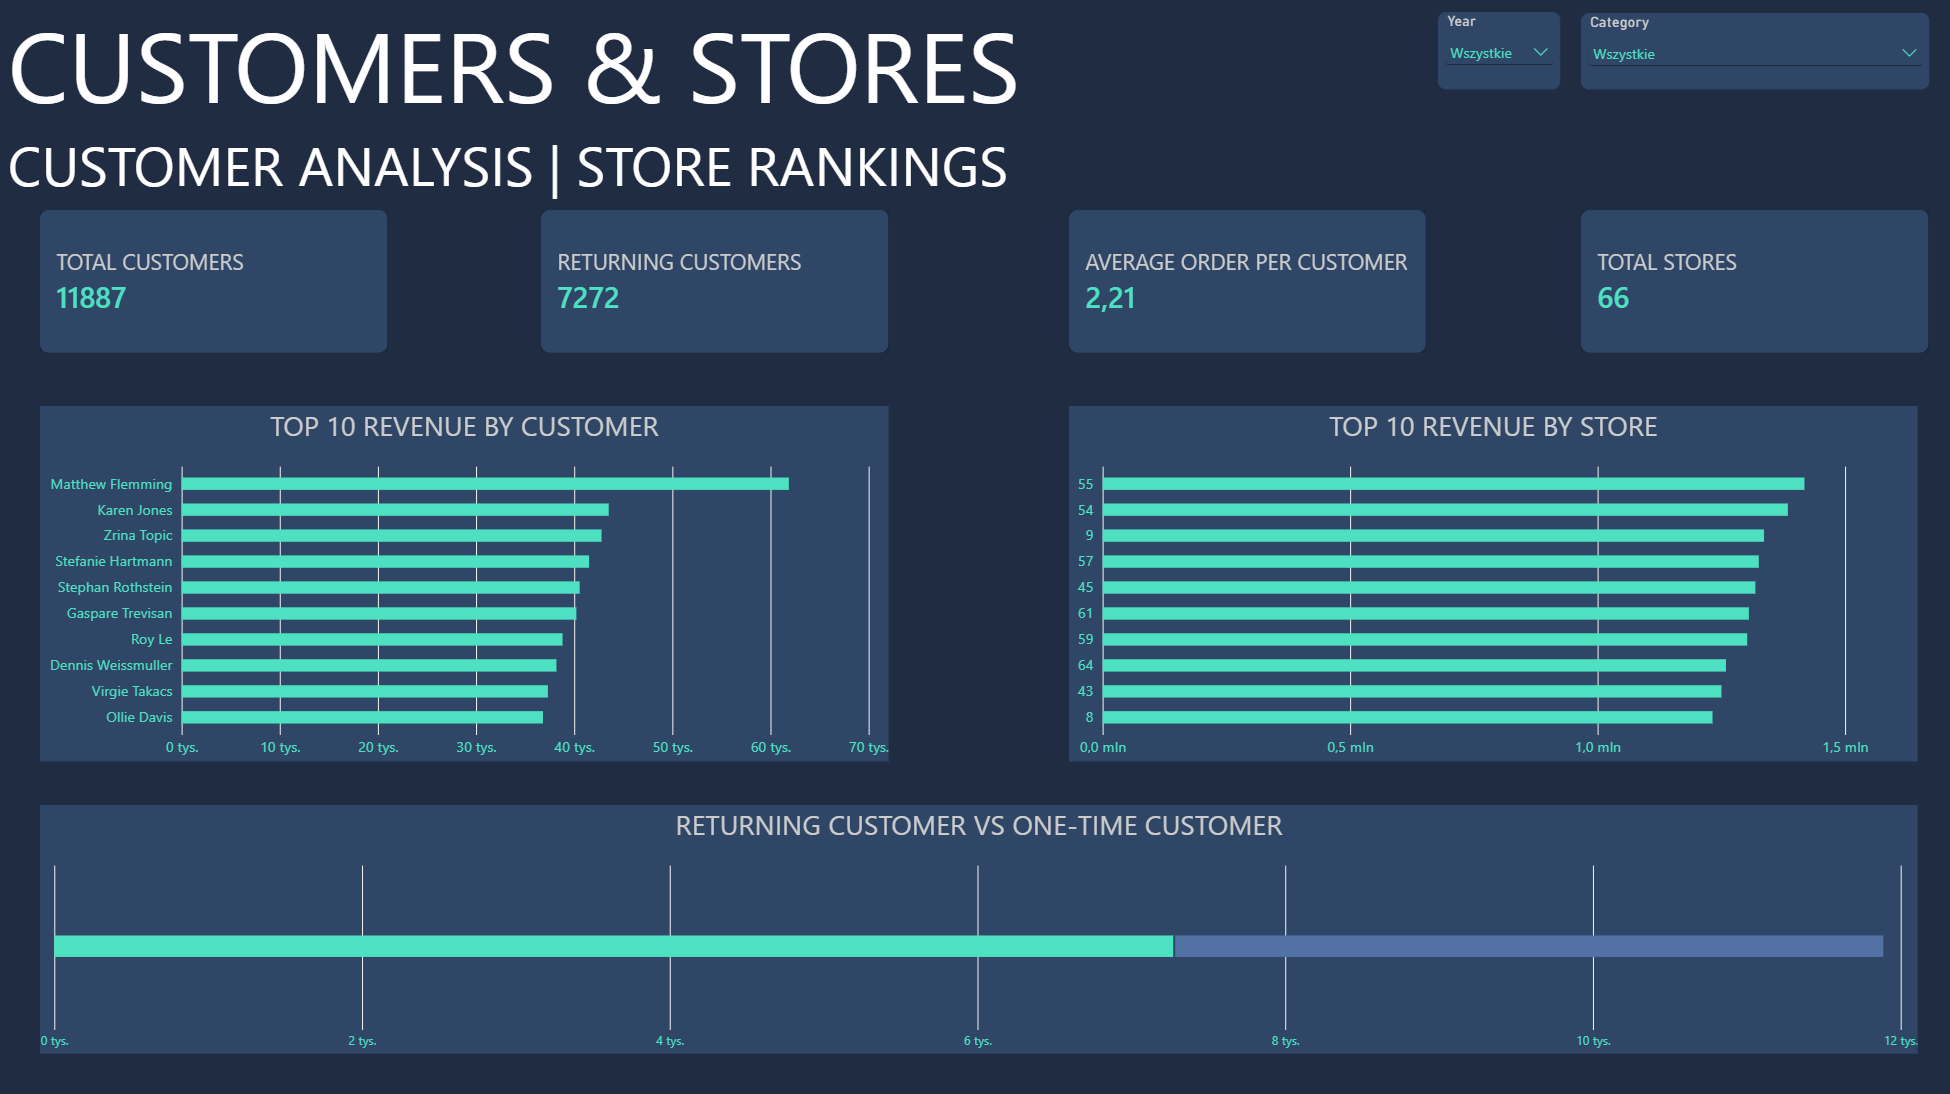

This screenshot's page, from the dashboard's own definition file:
{"tool":"powerbi","page":{"name":"Customers & Stores","canvas":[1920,1080],"ordinal":2},"visuals":[{"type":"textbox","box":[9.8,0,1650.1,279.8],"z":0},{"type":"cardVisual","fields":{"Data":["sales.Total_Customers"]},"box":[41.2,209.1,341.6,140.4],"z":1},{"type":"cardVisual","fields":{"Data":["customers.Returning_Customers"]},"box":[533,209.1,341.6,140.4],"z":2},{"type":"cardVisual","fields":{"Data":["sales.Average_Order_per_Customer"]},"box":[1051.3,209.1,350.4,140.4],"z":3},{"type":"cardVisual","fields":{"Data":["sales.Total_Stores"]},"box":[1553.9,209.1,341.6,140.4],"z":4},{"type":"barChart","title":"TOP 10 REVENUE BY CUSTOMER","fields":{"Category":["customers.Name"],"Y":["sales.Total_Revenue"]},"box":[41.2,401.5,833.4,349.4],"z":5},{"type":"barChart","title":"TOP 10 REVENUE BY STORE","fields":{"Category":["sales.StoreKey"],"Y":["sales.Total_Revenue"]},"box":[1051.3,401.5,833.4,349.4],"z":6},{"type":"barChart","title":"RETURNING CUSTOMER VS ONE-TIME CUSTOMER","fields":{"Y":["customers.Returning_Customers","customers.One_Time_Customers"]},"box":[41.2,793.1,1843.4,244.4],"z":7},{"type":"slicer","fields":{"Values":["sales.Order_Date.Odmiana.Hierarchia dat.Rok"]},"box":[1413.5,14.7,120,75.6],"z":8},{"type":"slicer","fields":{"Values":["products.Category"]},"box":[1553.9,15.7,341.6,74.6],"z":9}]}

Visuals, with their boxes in screenshot pixels (x1, y1, x2, y2), scaled from the page's 1920x1080 canvas onto the 1950x1094 screenshot:
textbox: [10, 0, 1686, 283]
cardVisual - sales.Total_Customers: [42, 212, 389, 354]
cardVisual - customers.Returning_Customers: [541, 212, 888, 354]
cardVisual - sales.Average_Order_per_Customer: [1068, 212, 1424, 354]
cardVisual - sales.Total_Stores: [1578, 212, 1925, 354]
"TOP 10 REVENUE BY CUSTOMER" barChart: [42, 407, 888, 761]
"TOP 10 REVENUE BY STORE" barChart: [1068, 407, 1914, 761]
"RETURNING CUSTOMER VS ONE-TIME CUSTOMER" barChart: [42, 803, 1914, 1051]
slicer - sales.Order_Date.Odmiana.Hierarchia dat.Rok: [1436, 15, 1557, 91]
slicer - products.Category: [1578, 16, 1925, 91]
